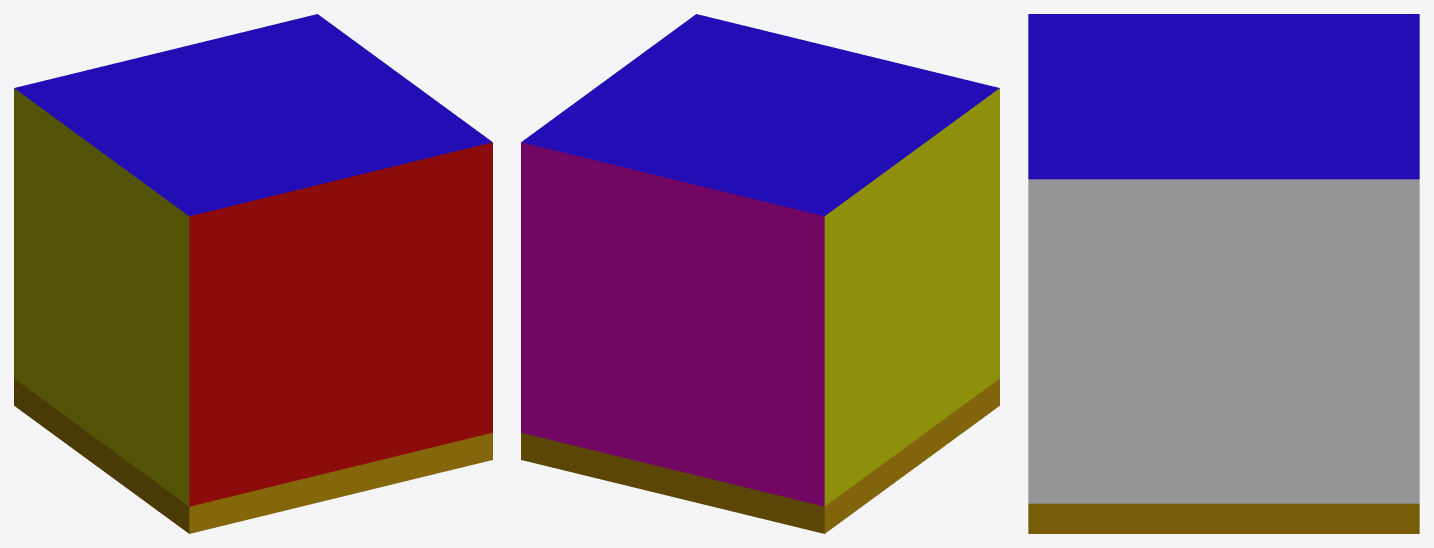
The model's file is cubino bordato.fbx.
The picture shows the model from 3 angles, left to right: view 1: azimuth 30°, elevation 25°; view 2: azimuth 150°, elevation 25°; view 3: azimuth 270°, elevation 25°; orthographic projection. The views are drawn at different scales.
Visible parts, largest first — view 1: pCube1; view 2: pCube1; view 3: pCube1.
Part boxes in pixels (box(x1,y1,x2,y2)): pCube1: box(14, 14, 492, 533); pCube1: box(521, 14, 999, 533); pCube1: box(1028, 14, 1419, 533).
Size of the model in its own units: 1 by 1 by 1.
